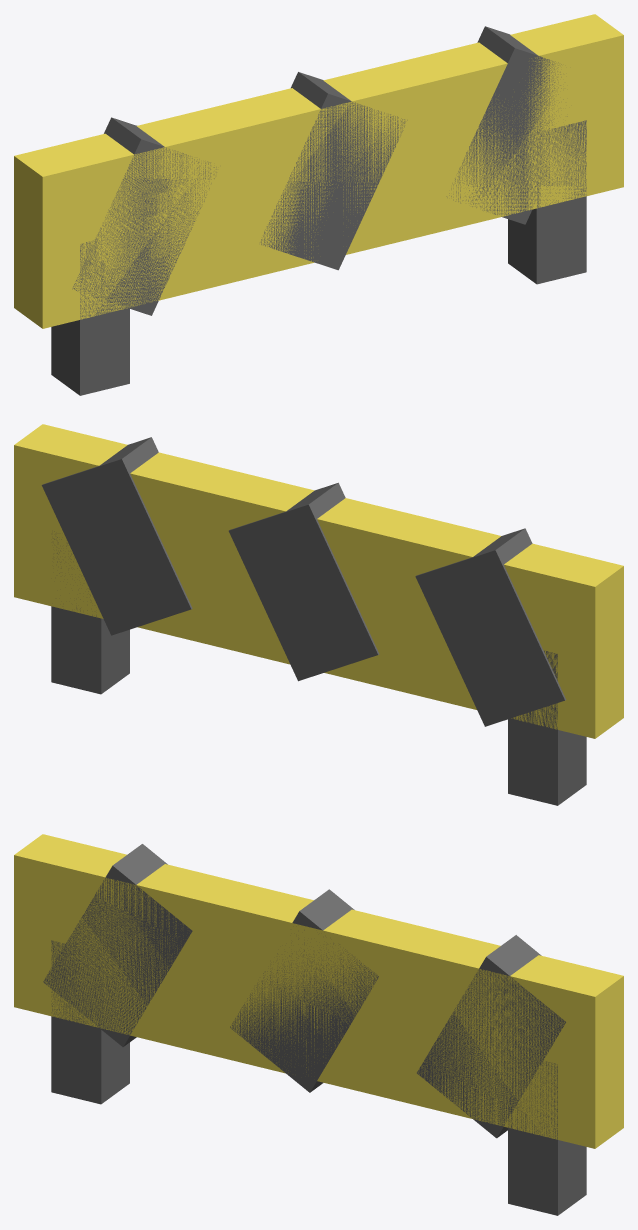
File: barrier.fbx
The picture shows the model from 3 angles, top to bottom: view 1: azimuth 30°, elevation 25°; view 2: azimuth 150°, elevation 25°; view 3: azimuth 330°, elevation 25°; orthographic projection.
Visible parts, largest first — view 1: Barrier_Board, Barrier_Stripe1, Barrier_Stripe0, Barrier_Stripe2, Barrier_Leg_R, Barrier_Leg_L; view 2: Barrier_Board, Barrier_Stripe2, Barrier_Stripe1, Barrier_Stripe0, Barrier_Leg_L, Barrier_Leg_R; view 3: Barrier_Board, Barrier_Stripe0, Barrier_Stripe2, Barrier_Stripe1, Barrier_Leg_R, Barrier_Leg_L.
Boxes of the visible parts, left/top/right/bottom form: Barrier_Board: left=14, top=14, right=623, bottom=328; Barrier_Stripe1: left=260, top=72, right=407, bottom=270; Barrier_Stripe0: left=72, top=117, right=216, bottom=315; Barrier_Stripe2: left=446, top=26, right=567, bottom=224; Barrier_Leg_R: left=508, top=120, right=586, bottom=284; Barrier_Leg_L: left=51, top=232, right=129, bottom=395; Barrier_Board: left=14, top=424, right=623, bottom=738; Barrier_Stripe2: left=41, top=437, right=192, bottom=635; Barrier_Stripe1: left=228, top=482, right=379, bottom=681; Barrier_Stripe0: left=415, top=528, right=566, bottom=726; Barrier_Leg_L: left=508, top=650, right=586, bottom=805; Barrier_Leg_R: left=51, top=531, right=129, bottom=694; Barrier_Board: left=14, top=834, right=623, bottom=1148; Barrier_Stripe0: left=43, top=844, right=192, bottom=1046; Barrier_Stripe2: left=417, top=935, right=565, bottom=1138; Barrier_Stripe1: left=230, top=889, right=378, bottom=1092; Barrier_Leg_R: left=508, top=1061, right=586, bottom=1215; Barrier_Leg_L: left=51, top=940, right=129, bottom=1104.
Bounding box in the file's own units: 2.8 × 1.11 × 0.25.
